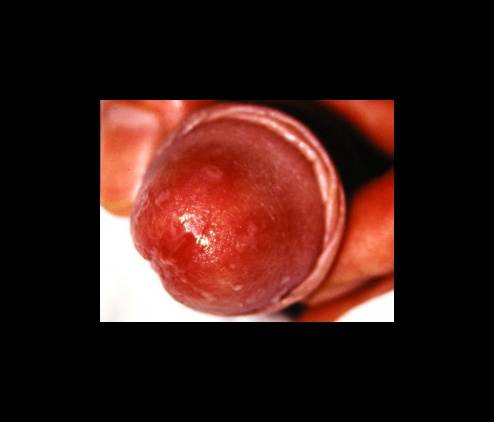SJS-TEN: (101, 124, 323, 363)
